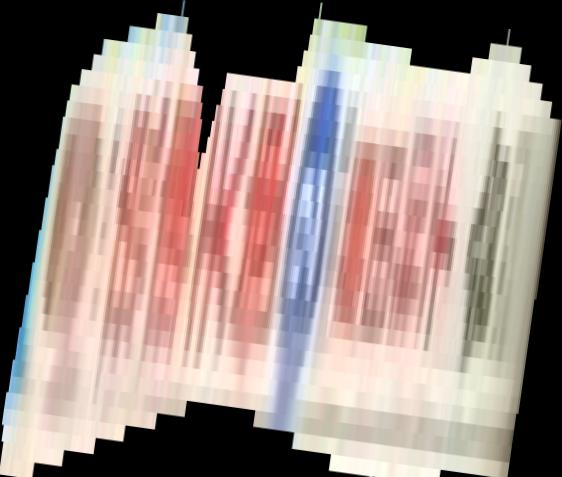flat: (1, 1, 562, 477)
